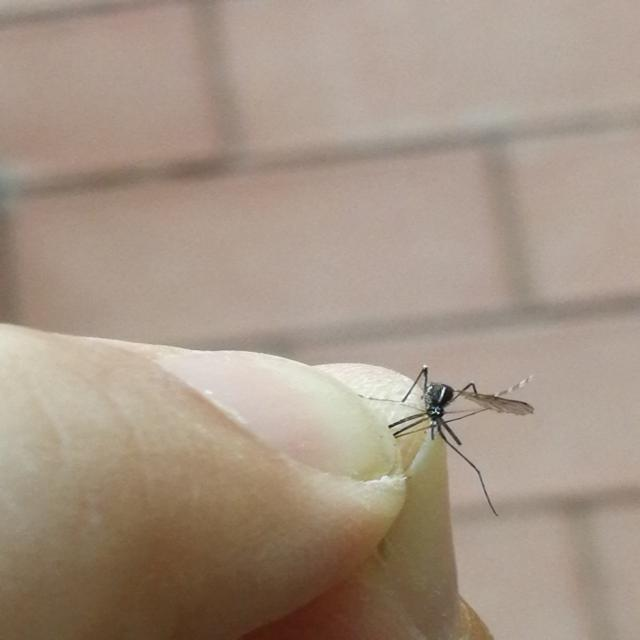albopictus: (343, 349, 541, 520)
